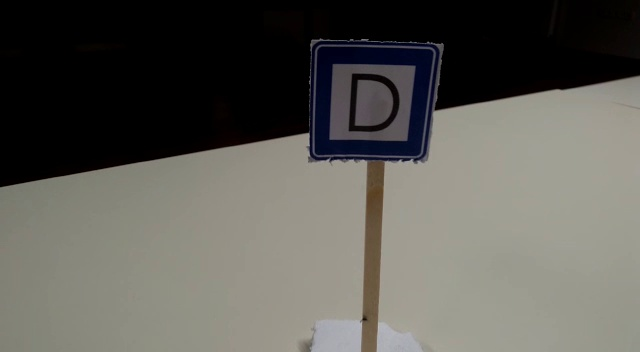durak: (308, 42, 441, 161)
